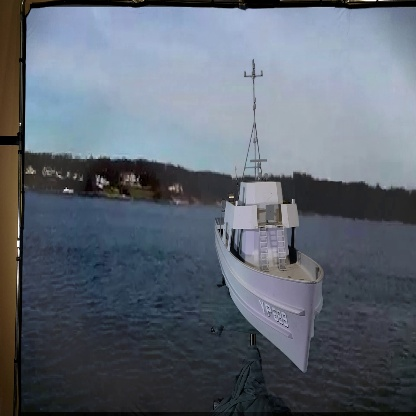YP689: (215, 58, 321, 371)
